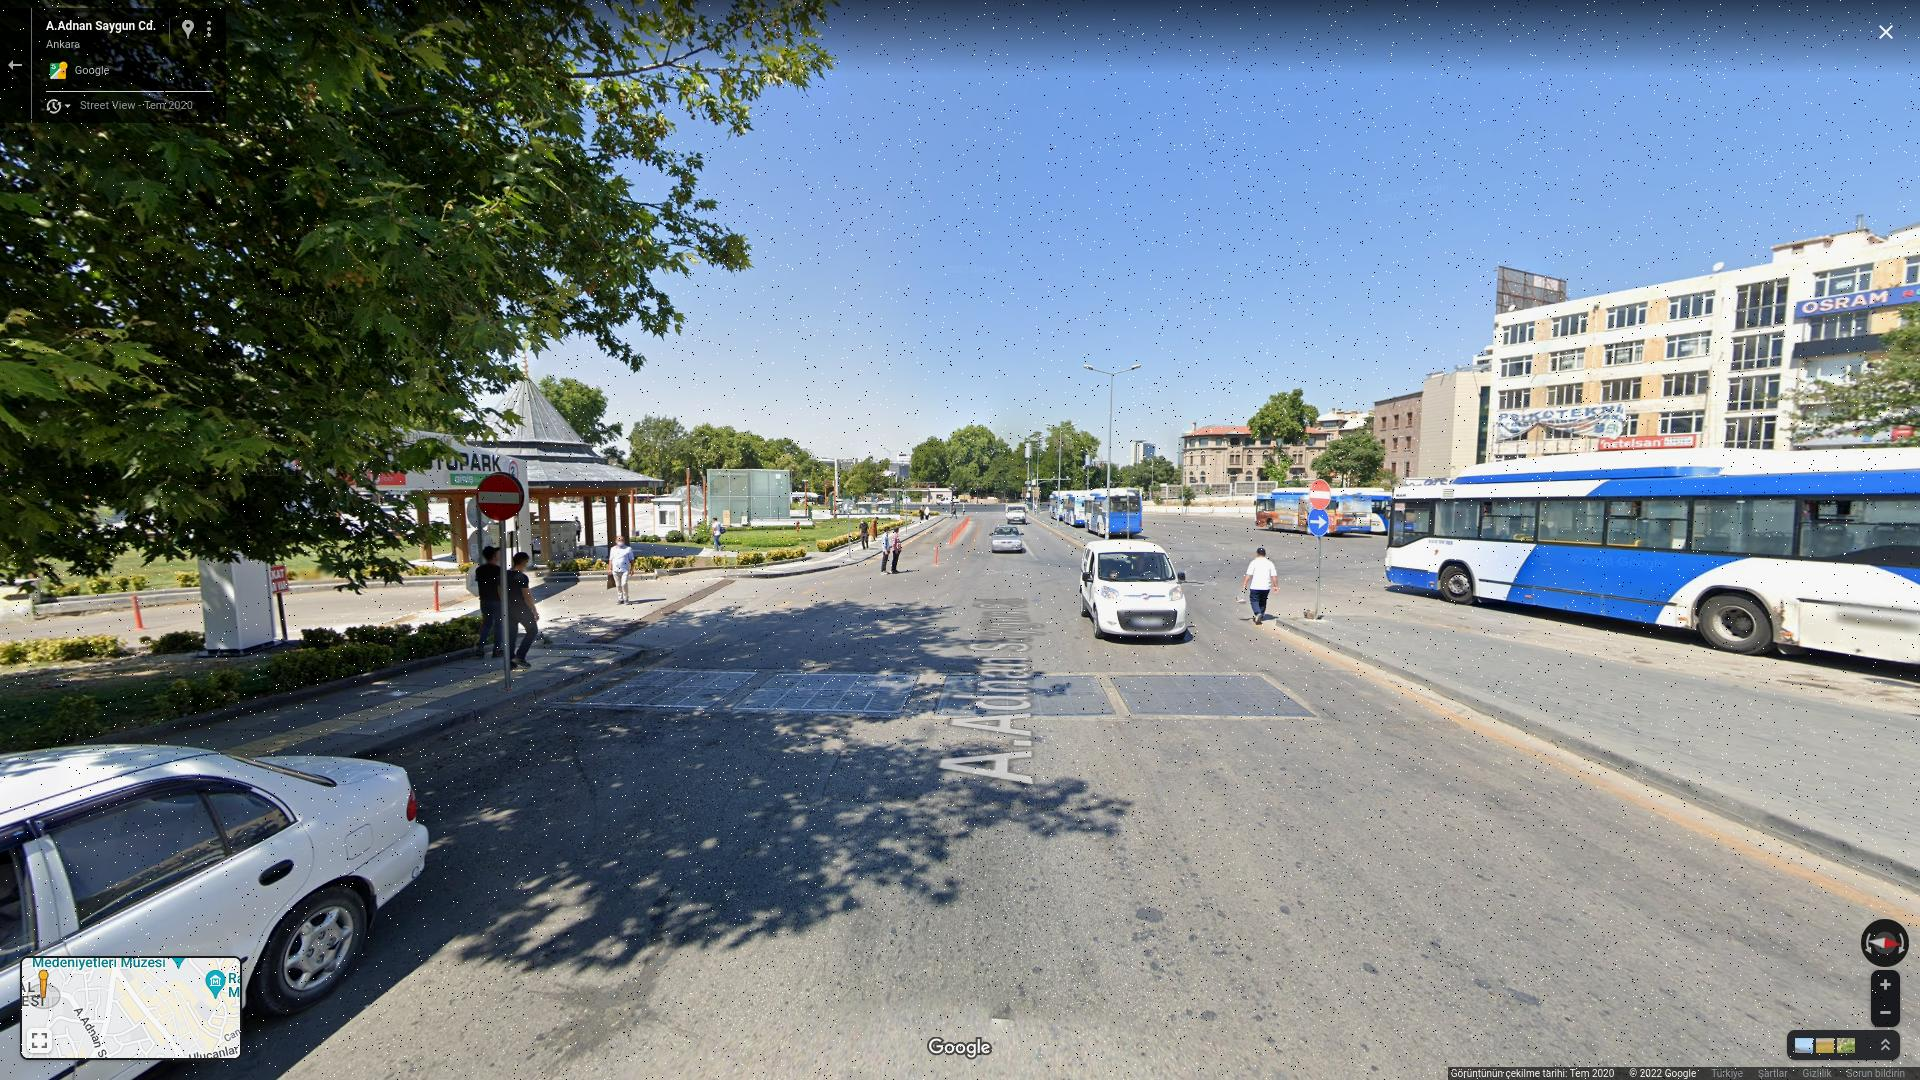turnright: (1308, 508, 1329, 537)
